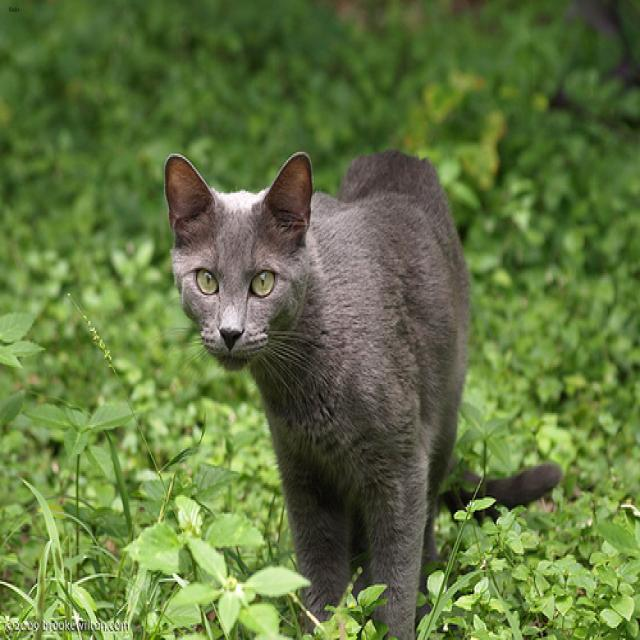cat: (163, 150, 311, 369)
